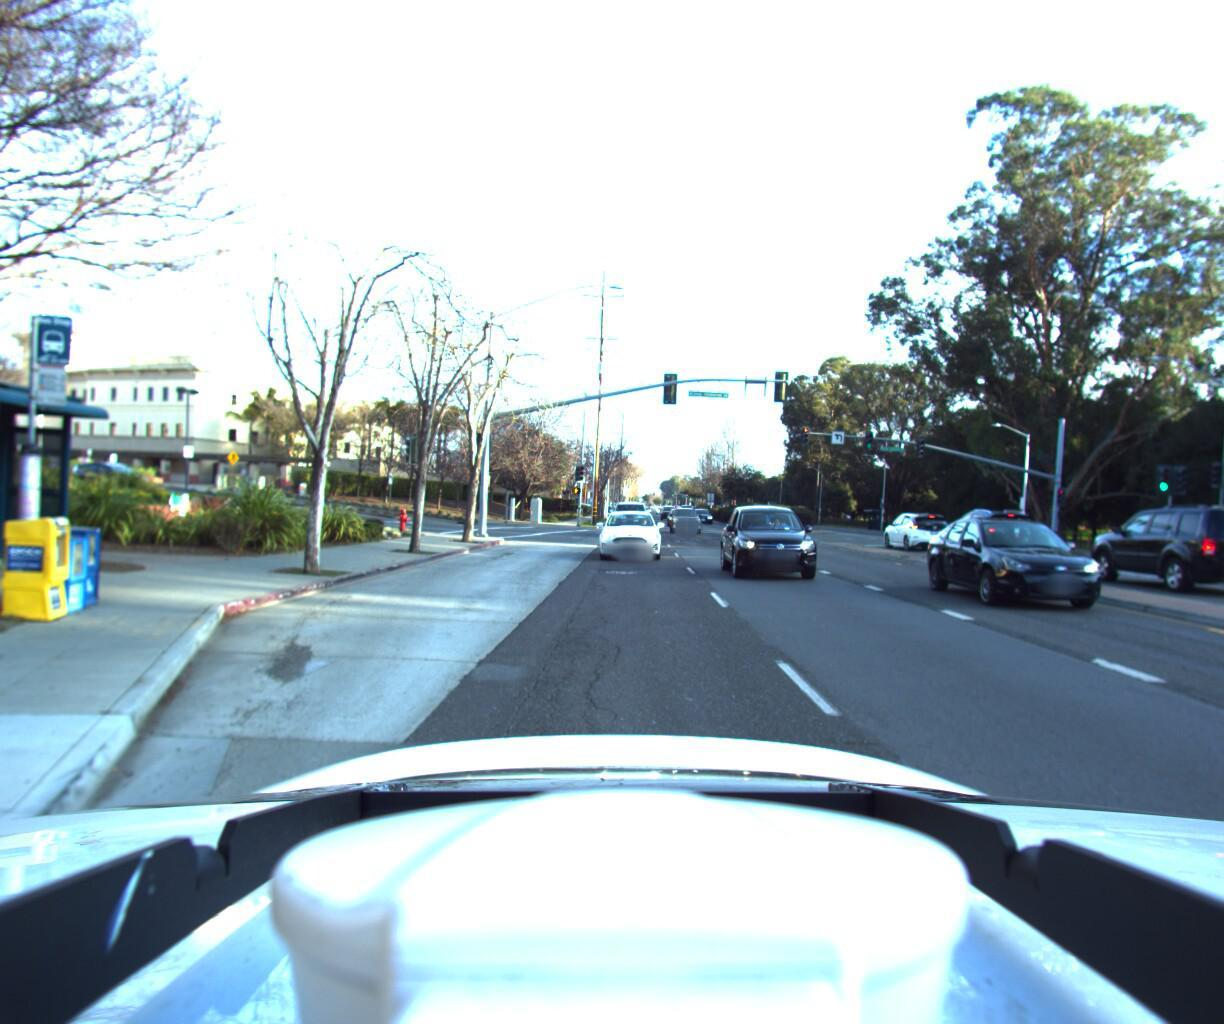car: (946, 509, 1174, 631), (1078, 498, 1224, 604), (722, 502, 839, 592), (930, 504, 1048, 568), (597, 506, 663, 565), (878, 508, 958, 552), (608, 498, 647, 538), (669, 502, 705, 533)
